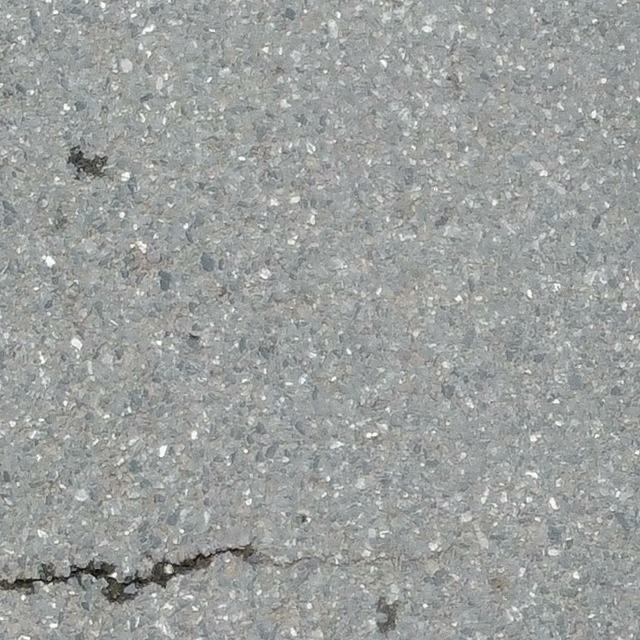TransverseCrack: (1, 534, 263, 604)
